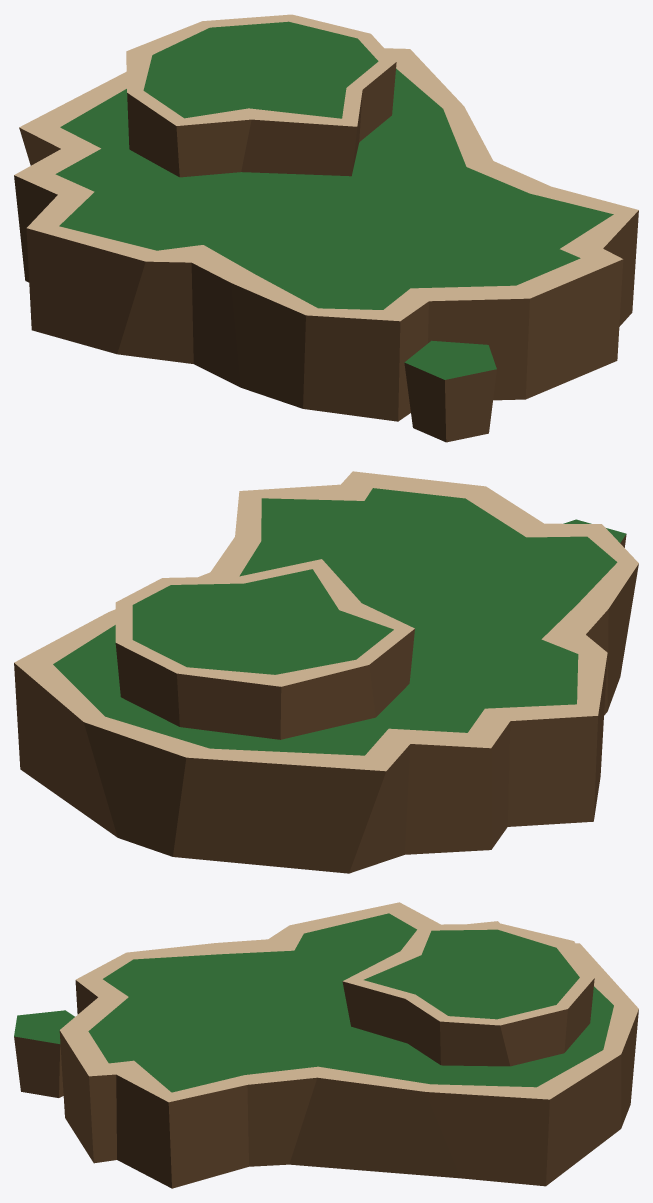
The model's file is rock-terrasse.glb.
3 views of the same model, one above another, from view 1: azimuth 30°, elevation 25°; view 2: azimuth 150°, elevation 25°; view 3: azimuth 270°, elevation 25° (orthographic). The views are drawn at different scales.
Parts seen in each view (by area): view 1: rock-terrasse; view 2: rock-terrasse; view 3: rock-terrasse.
Boxes of the visible parts, x1,y1,x2,y2 form: rock-terrasse: (14, 14, 638, 442); rock-terrasse: (14, 471, 638, 873); rock-terrasse: (14, 902, 638, 1188).
Bounding box in the file's own units: 6.04 × 1.88 × 7.97.
Materials: 1 (1 with a texture image).
